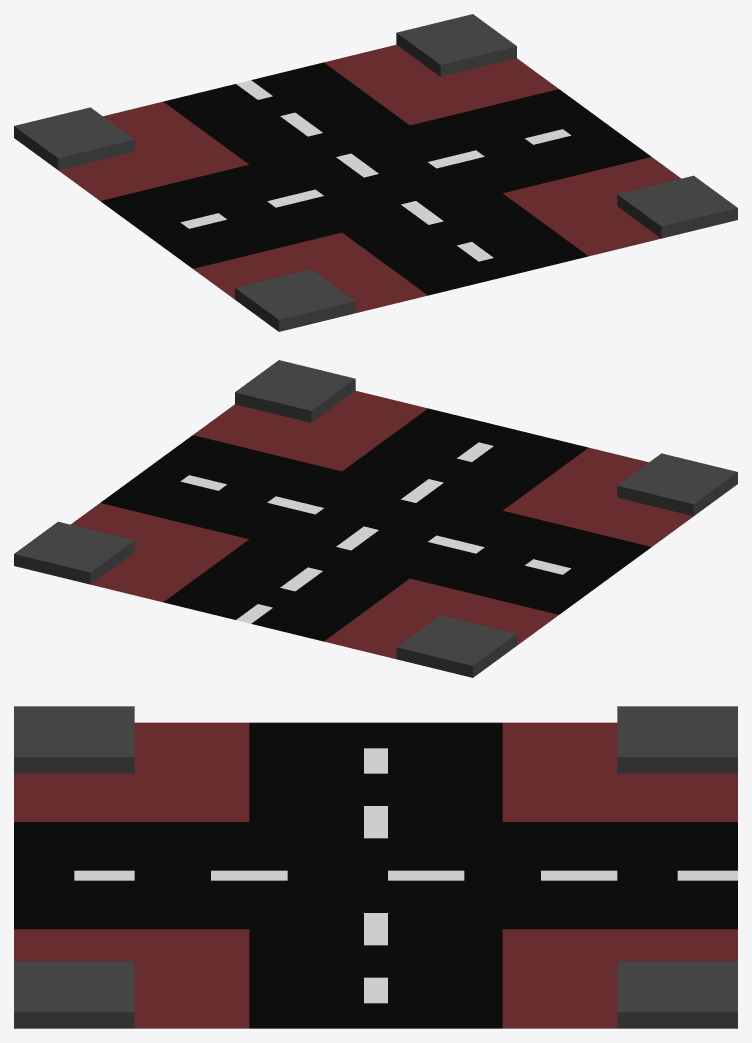
The model's file is RoadCrossLvl2.fbx.
3 views of the same model, one above another, from view 1: azimuth 30°, elevation 25°; view 2: azimuth 150°, elevation 25°; view 3: azimuth 270°, elevation 25° (orthographic). The views are drawn at different scales.
Visible parts, largest first — view 1: RoadCrossLvl2.001; view 2: RoadCrossLvl2.001; view 3: RoadCrossLvl2.001.
Boxes of the visible parts, x1=… form: RoadCrossLvl2.001: x1=14, y1=14, x2=737, y2=331; RoadCrossLvl2.001: x1=14, y1=360, x2=737, y2=677; RoadCrossLvl2.001: x1=14, y1=706, x2=737, y2=1028.
Size of the model in its own units: 800 by 20 by 800.
